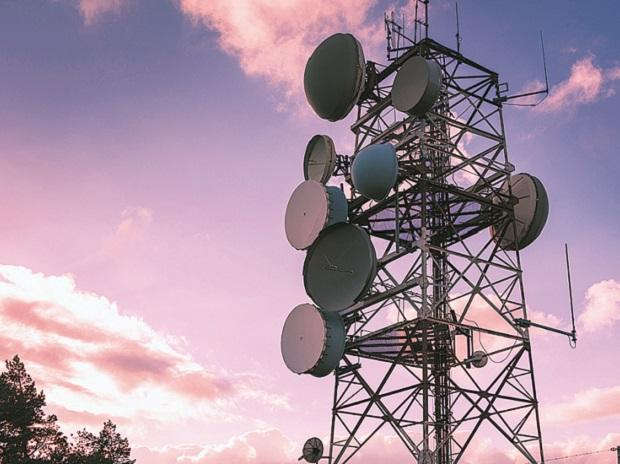ba: (482, 171, 553, 262), (281, 303, 349, 383), (277, 184, 351, 249), (389, 51, 441, 124)
